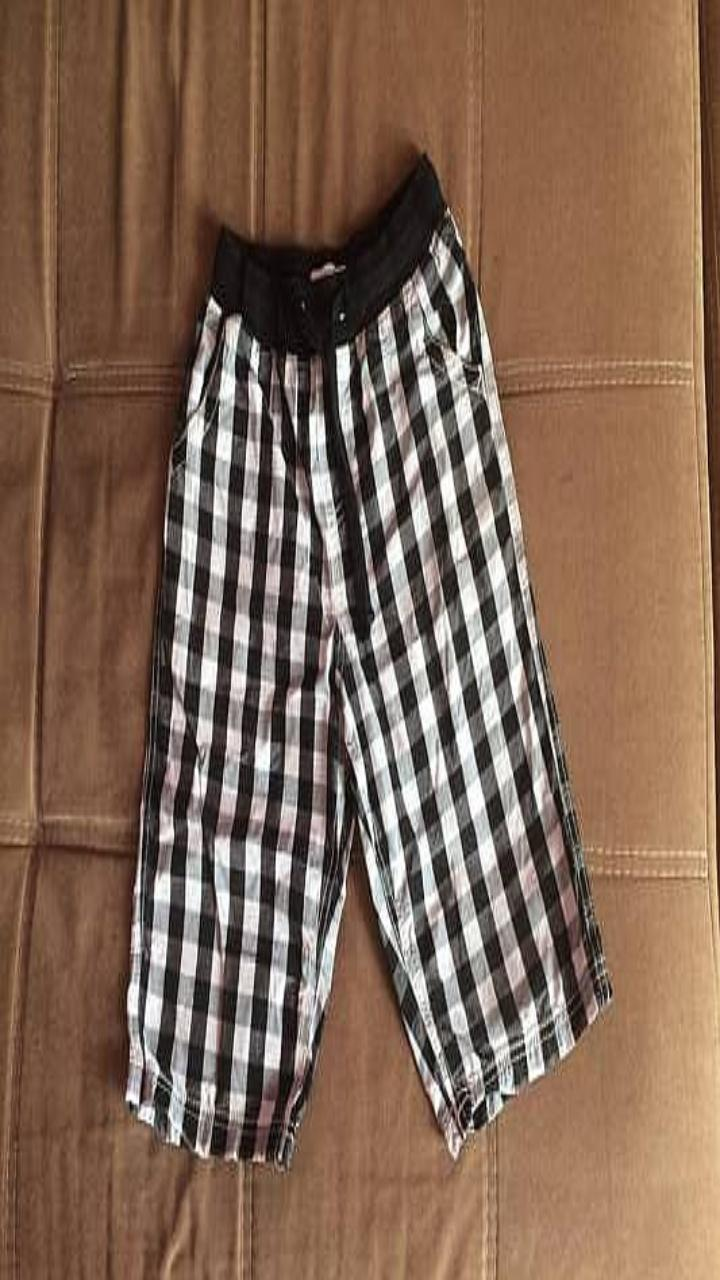Shorts: (126, 152, 612, 1168)
